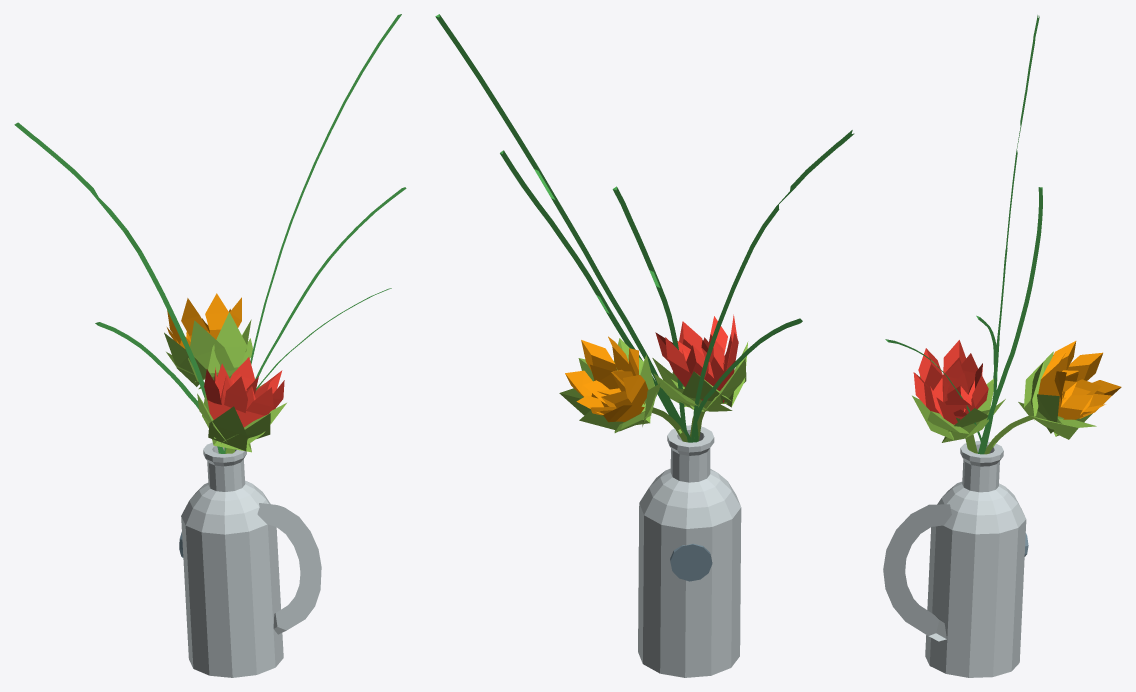
File: flower-vase.glb
The picture shows the model from 3 angles, left to right: view 1: azimuth 30°, elevation 25°; view 2: azimuth 150°, elevation 25°; view 3: azimuth 270°, elevation 25°; orthographic projection. The views are drawn at different scales.
Parts seen in each view (by area): view 1: Node; view 2: Node; view 3: Node.
Boxes of the visible parts, left/top/right/bottom form: Node: left=14, top=14, right=406, bottom=677; Node: left=435, top=14, right=854, bottom=677; Node: left=883, top=15, right=1121, bottom=677.
Bounding box in the file's own units: 0.8016 × 1.13 × 0.4275.
